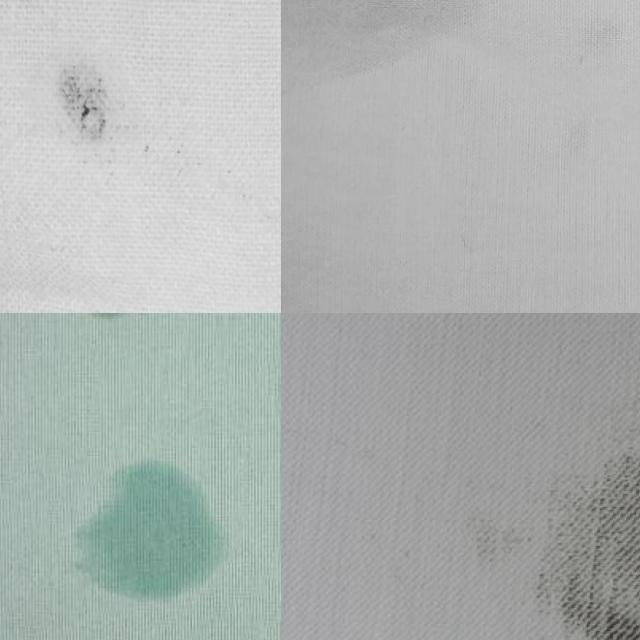Thread_other: (411, 363, 640, 640), (62, 434, 232, 606), (14, 46, 142, 170)
